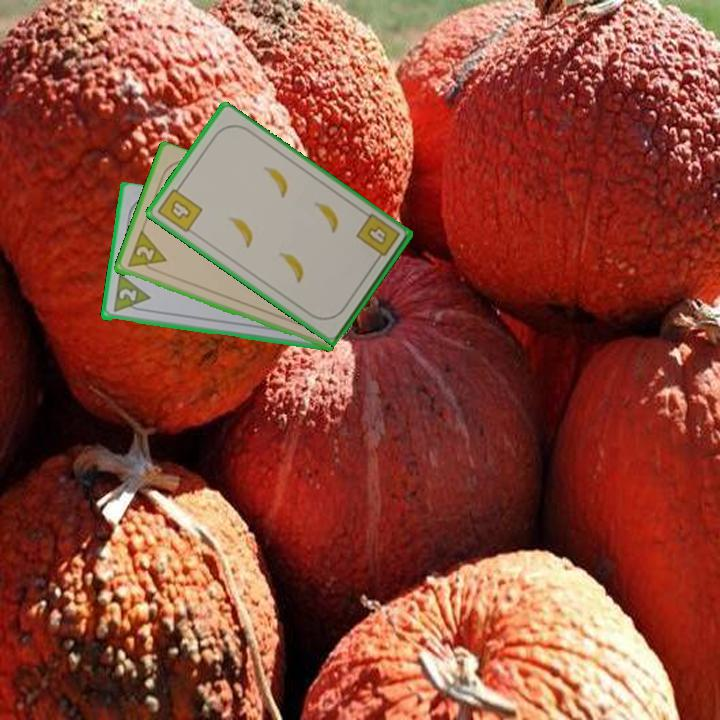2p: (123, 229, 169, 275), (115, 285, 139, 305)
4b: (154, 180, 205, 235), (352, 210, 403, 265)
